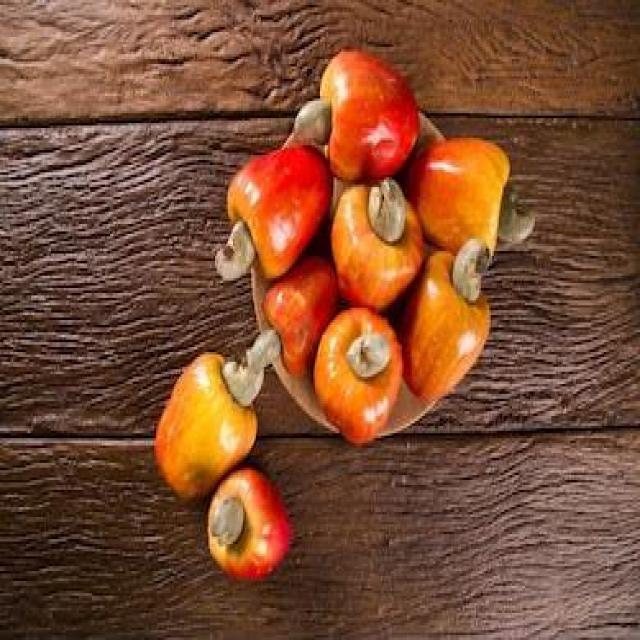cashew: (255, 281, 315, 375), (365, 169, 428, 243), (449, 236, 503, 306), (197, 230, 260, 282), (223, 326, 260, 414), (206, 488, 250, 561), (349, 322, 394, 382), (500, 187, 537, 249), (295, 74, 323, 153)
